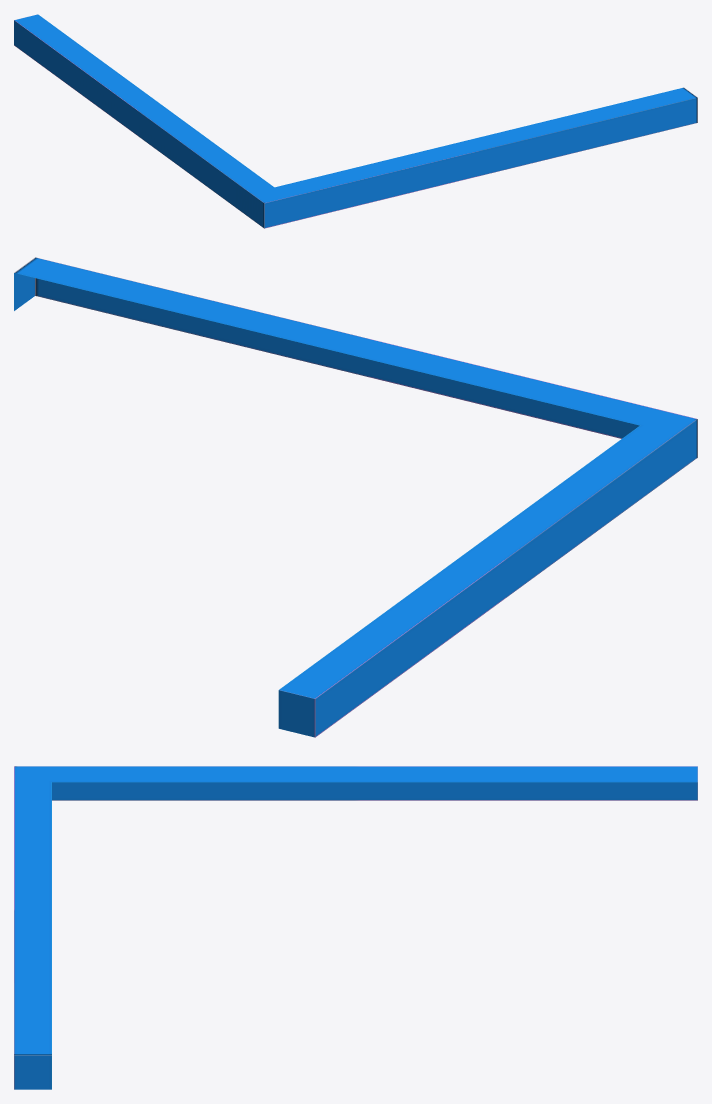
File: MK_Wall_Trim_H_Corner_Out.fbx
3 views of the same model, one above another, from view 1: azimuth 30°, elevation 25°; view 2: azimuth 150°, elevation 25°; view 3: azimuth 270°, elevation 25° (orthographic). The views are drawn at different scales.
Visible parts, largest first — view 1: Wall_Trim_H_Corner_Out; view 2: Wall_Trim_H_Corner_Out; view 3: Wall_Trim_H_Corner_Out.
Part boxes in pixels (x1,y1,x2,y2): Wall_Trim_H_Corner_Out: [14, 14, 697, 228]; Wall_Trim_H_Corner_Out: [14, 257, 697, 737]; Wall_Trim_H_Corner_Out: [14, 766, 697, 1089].
Bounding box in the file's own units: 203 × 11.25 × 202.
1 material, 1 textured.
